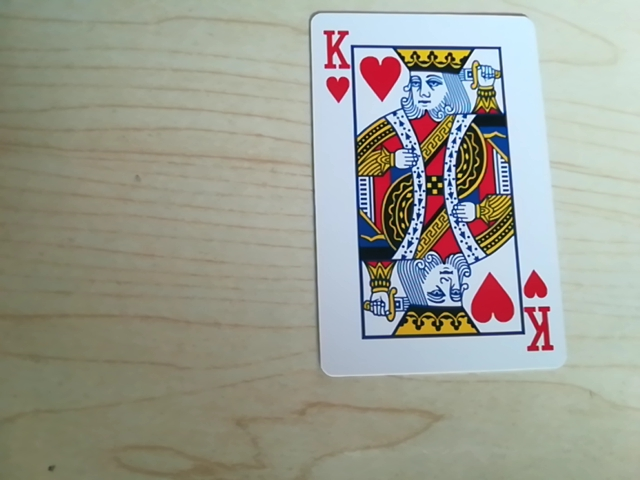hx k: (314, 21, 355, 84), (517, 299, 553, 357)
